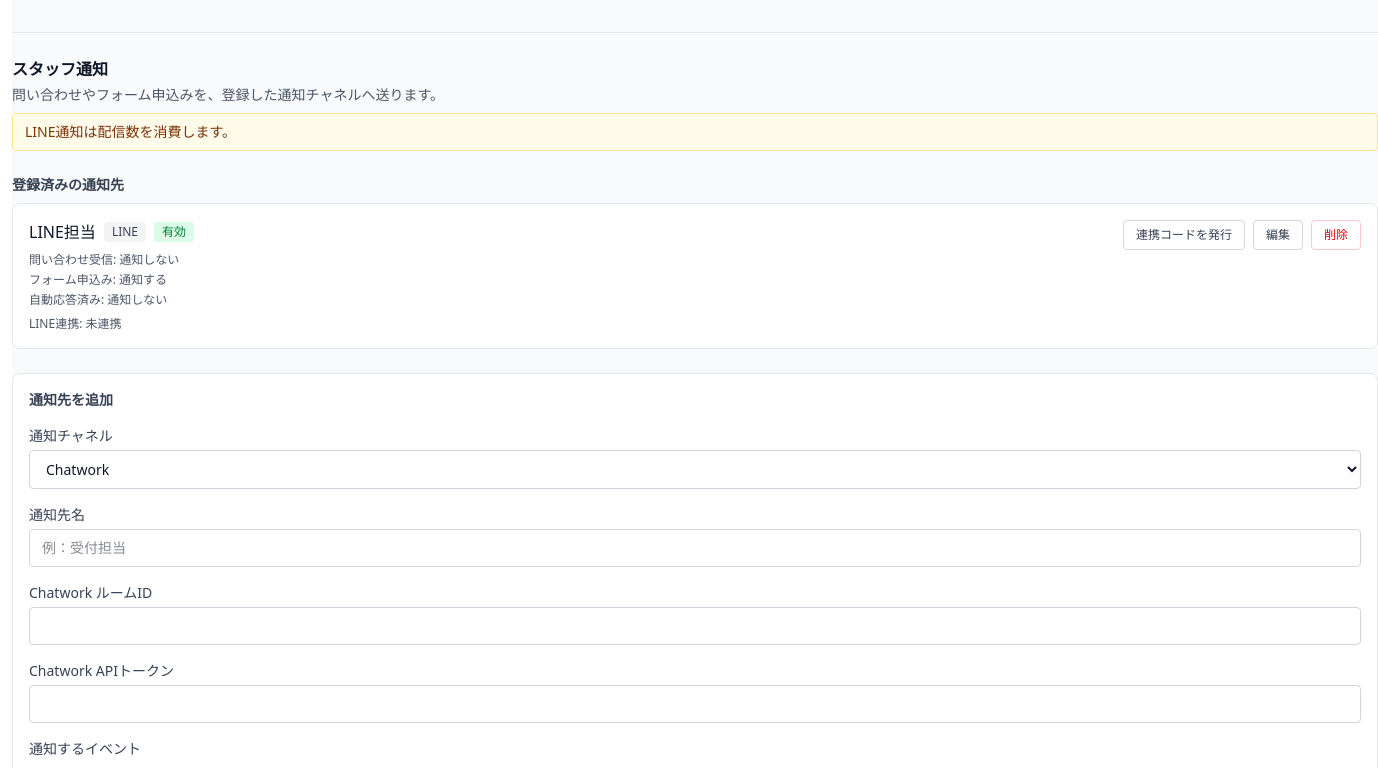
Test case: StaffNotificationSettingsPanel › 削除後に GET し直して一覧から消す
The width and height of the screenshot is (1378, 768).
Click the button with aria-label "LINE担当を削除" at point(1336, 235), box [1311,220,1361,250]
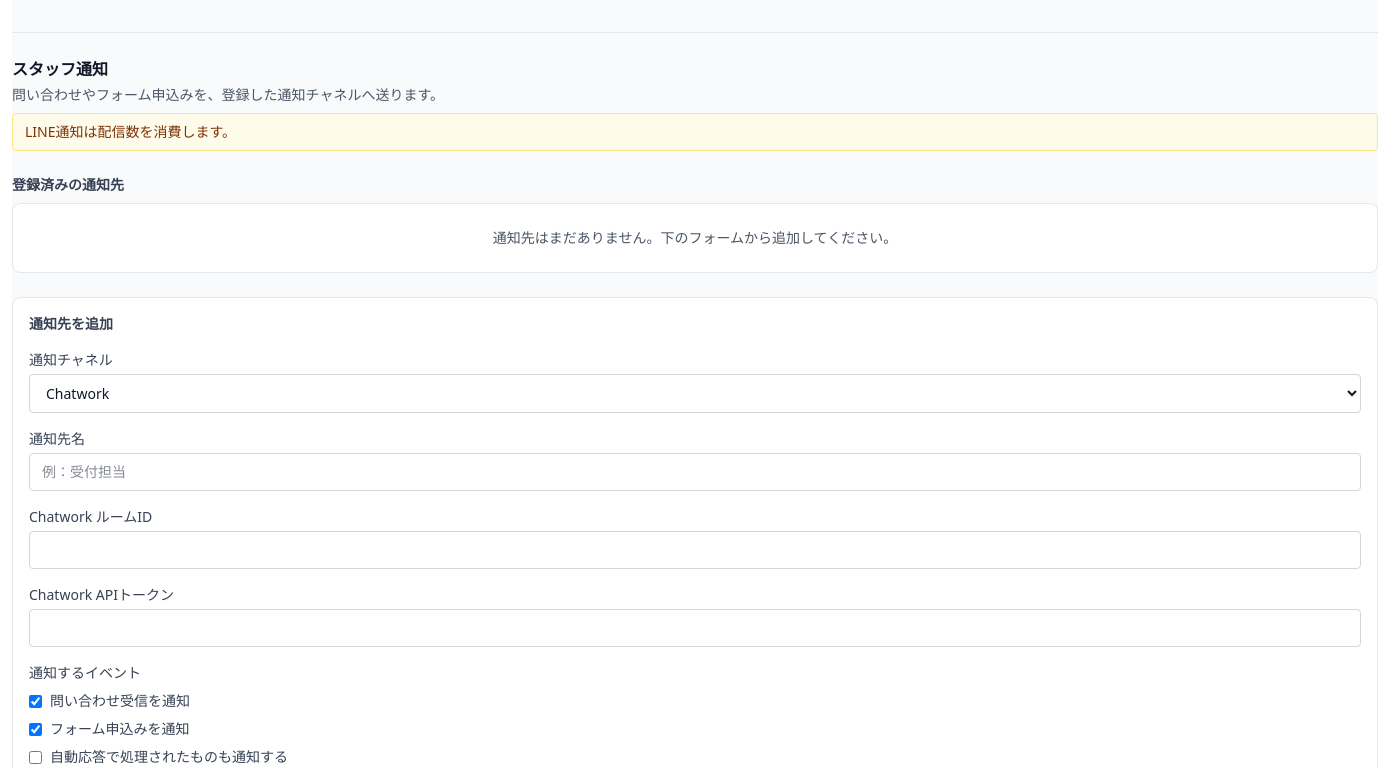
Now the text "通知先はまだありません。下のフォームから追加してください。" is shown, box [12,203,1377,273]
Now the text "LINE担当" is gone
